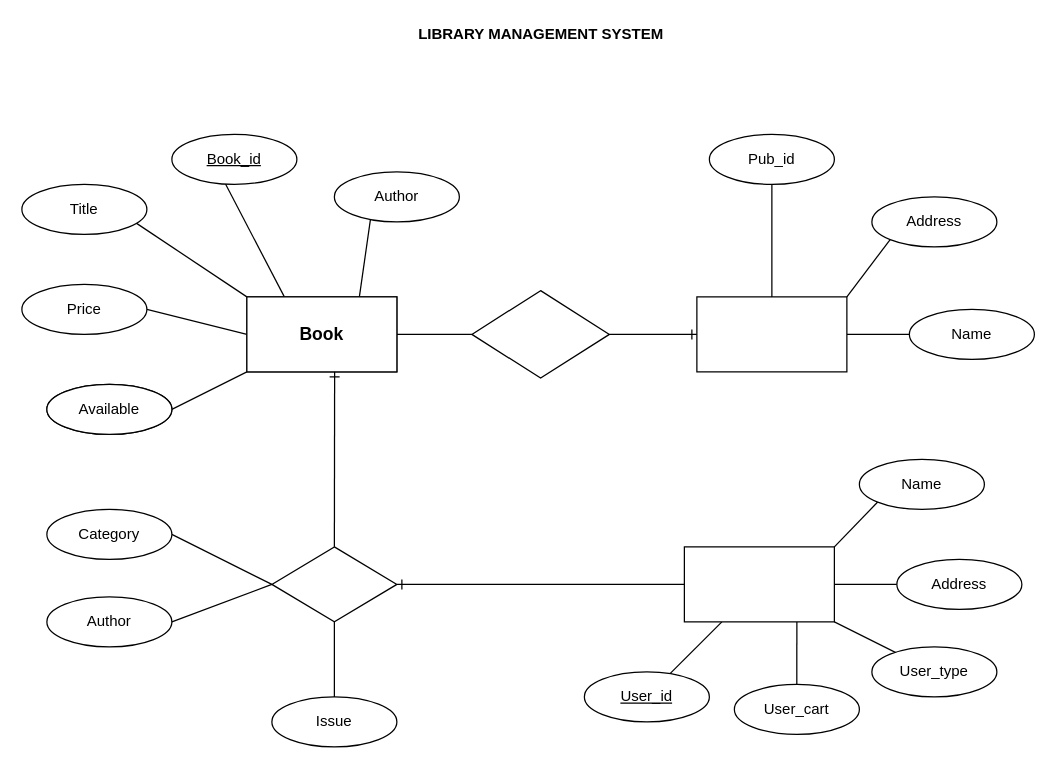
This 1056x769 diagram has some shape labels left out. The shapes that lost their labels are listed below. From the top down, each one's centre as x and y in pixels, then its label:
(540,333): Published by
(771,334): Publisher
(334,584): Search by
(758,584): User
